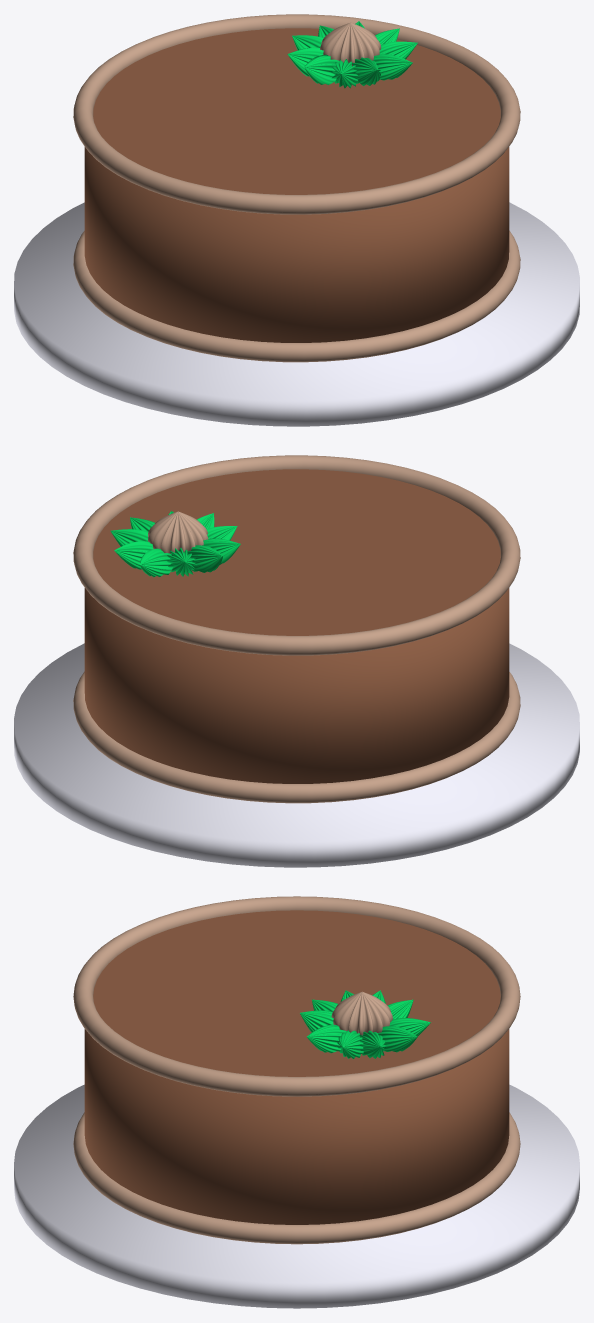
Rendered from round_chocolate_style3.glb.
3 views of the same model, one above another, from view 1: azimuth 30°, elevation 25°; view 2: azimuth 150°, elevation 25°; view 3: azimuth 270°, elevation 25° (orthographic).
Visible parts, largest first — view 1: CakeBase, IcingStand, CakeTopCircle, IcingRing, IcingRing.001, leaf, design1; view 2: CakeBase, IcingStand, CakeTopCircle, IcingRing, IcingRing.001, leaf, design1; view 3: CakeBase, IcingStand, CakeTopCircle, IcingRing, IcingRing.001, leaf, design1.
Boxes of the visible parts, x1,y1,x2,y2 form: CakeBase: (84,147,509,342); IcingStand: (14,202,579,426); CakeTopCircle: (93,28,500,194); IcingRing: (73,14,520,214); IcingRing.001: (73,230,520,362); leaf: (287,21,417,88); design1: (320,22,381,66); CakeBase: (84,588,509,783); IcingStand: (14,643,579,867); CakeTopCircle: (93,469,500,635); IcingRing: (73,455,520,655); IcingRing.001: (73,671,520,803); leaf: (110,511,240,577); design1: (148,511,208,553); CakeBase: (84,1029,509,1224); IcingStand: (14,1084,579,1308); CakeTopCircle: (93,910,500,1076); IcingRing: (73,896,520,1096); IcingRing.001: (73,1112,520,1244); leaf: (300,990,430,1058); design1: (331,991,392,1035).
Size of the model in its own units: 4 by 1.87 by 4.
